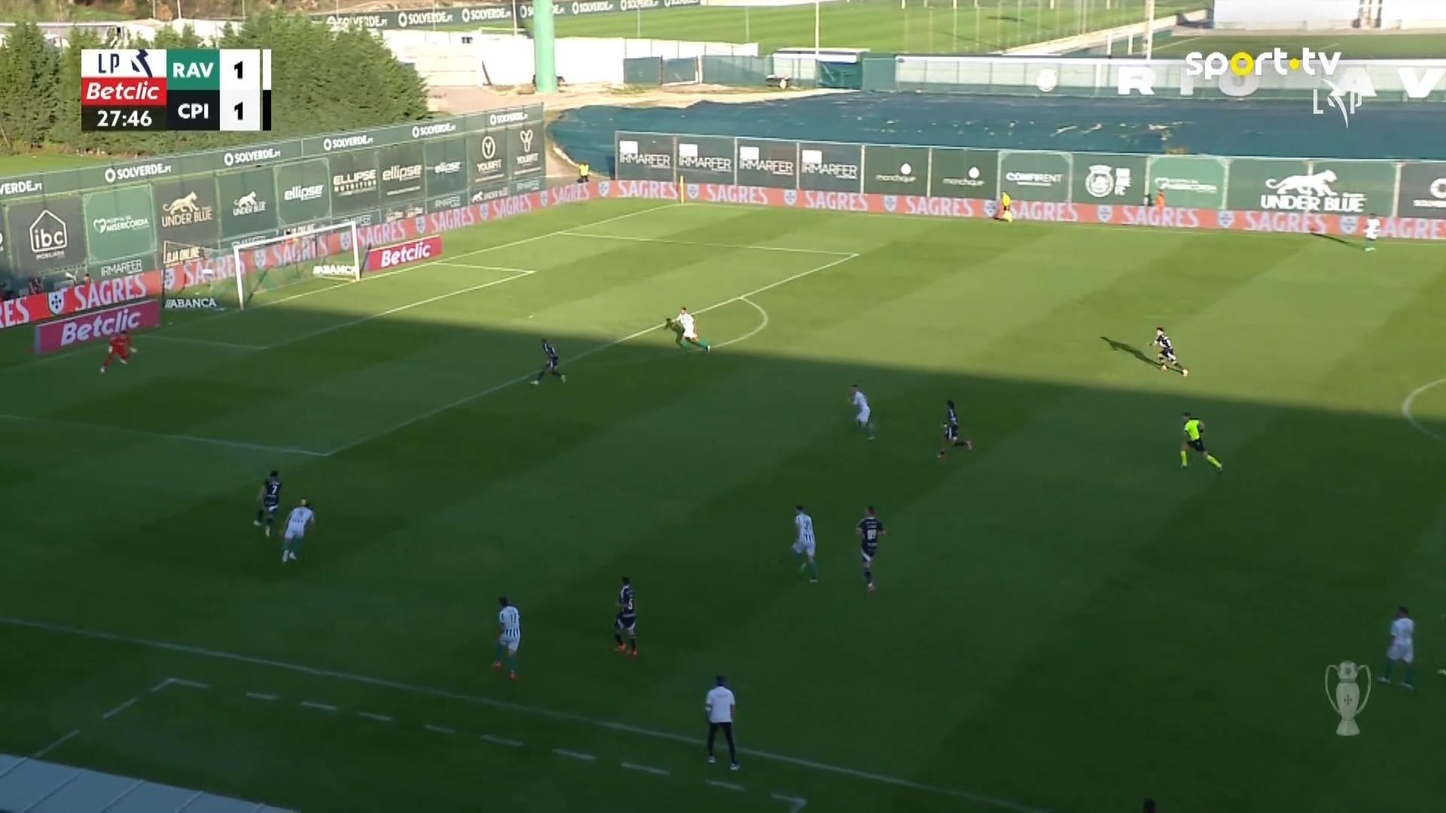goalkeeper: (98, 328, 137, 373)
player: (1376, 604, 1415, 689), (855, 504, 886, 591), (491, 595, 520, 680), (280, 497, 315, 562), (791, 503, 818, 583), (936, 399, 972, 458), (664, 306, 709, 353), (612, 575, 638, 656), (1146, 326, 1188, 376), (252, 469, 282, 537), (529, 337, 566, 385), (849, 383, 876, 440), (1362, 212, 1380, 251)
referee: (703, 673, 740, 771), (1179, 410, 1224, 474), (992, 190, 1014, 222)
